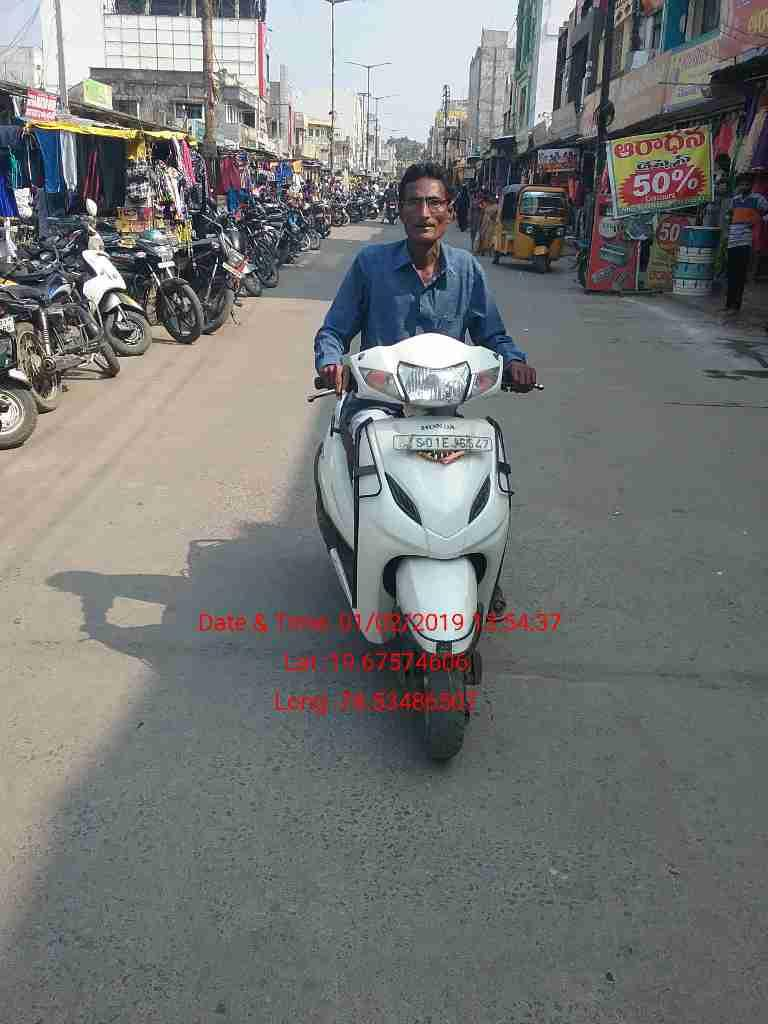plate: (390, 430, 493, 458)
